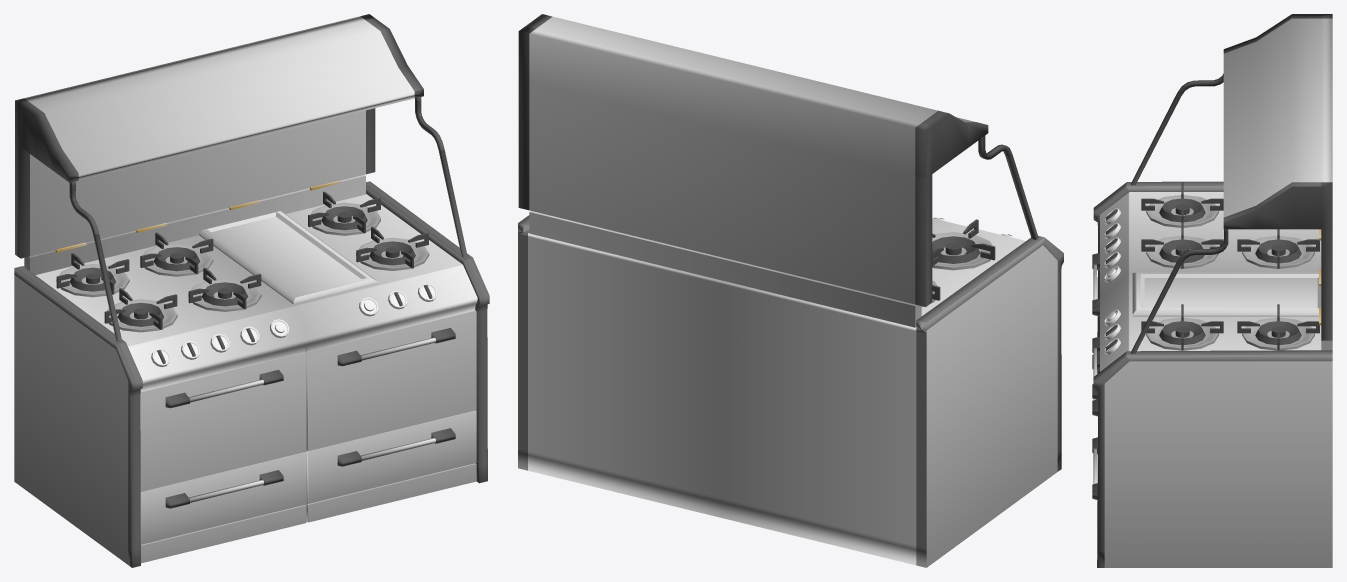
The model's file is SM_ZaotaiwithGaizi.fbx.
3 renders of one model, left to right at view 1: azimuth 30°, elevation 25°; view 2: azimuth 150°, elevation 25°; view 3: azimuth 270°, elevation 25°, orthographic. The views are drawn at different scales.
Visible parts, largest first — view 1: SM_ZaotaiwithGaizi; view 2: SM_ZaotaiwithGaizi; view 3: SM_ZaotaiwithGaizi.
Boxes of the visible parts, x1,y1,x2,y2 form: SM_ZaotaiwithGaizi: [14, 14, 489, 567]; SM_ZaotaiwithGaizi: [518, 14, 1063, 567]; SM_ZaotaiwithGaizi: [1092, 14, 1332, 567].
Size of the model in its own units: 180 by 184 by 105.
